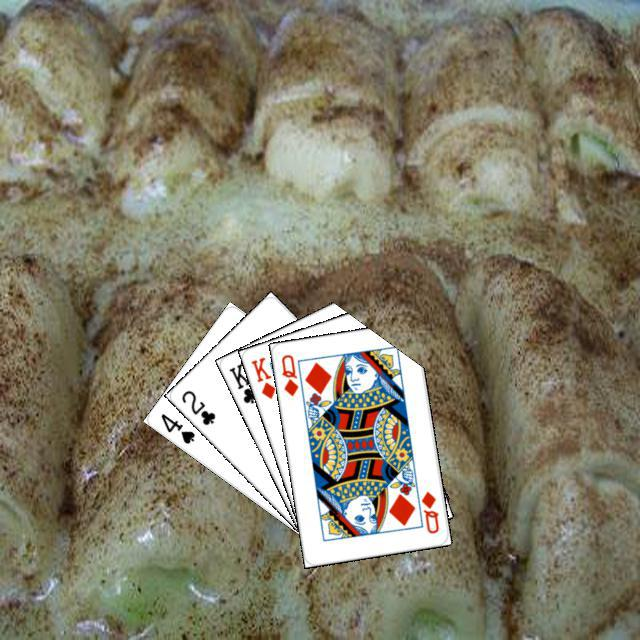2c: (176, 385, 217, 427)
4s: (156, 408, 197, 446)
Kc: (224, 358, 266, 405)
Kd: (246, 352, 277, 401)
Qd: (416, 486, 441, 535), (276, 349, 300, 398)
